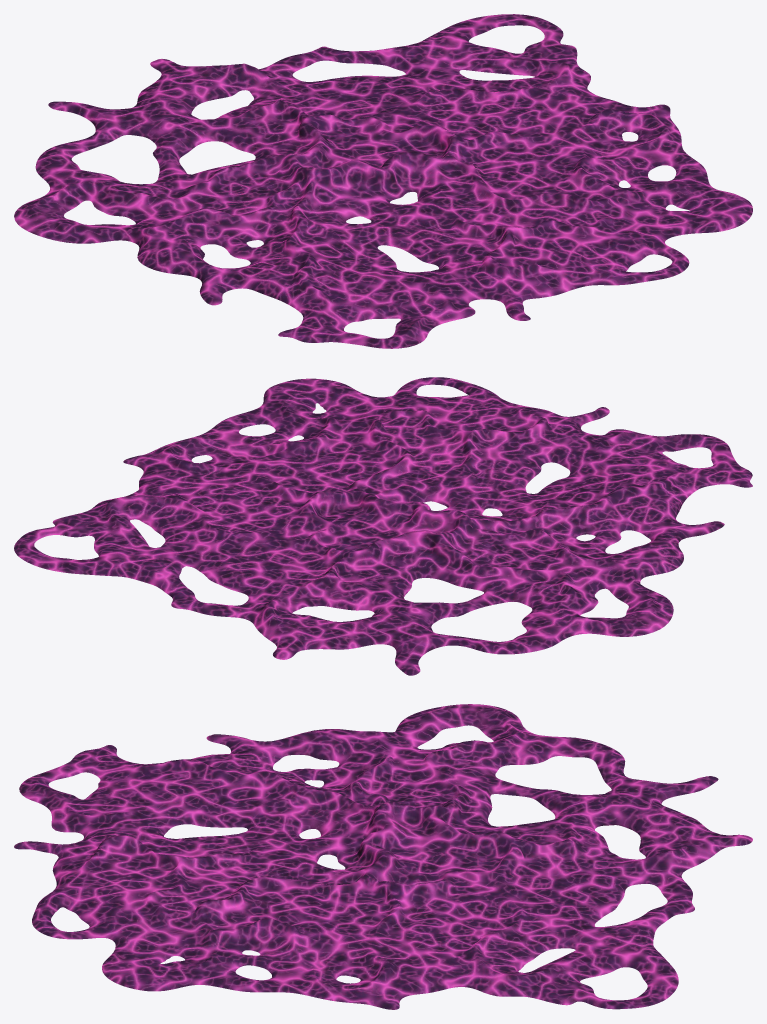
The model's file is caos_stl_chaosgrowth_01a_chaos_v36.glb.
3 renders of one model, top to bottom at view 1: azimuth 30°, elevation 25°; view 2: azimuth 150°, elevation 25°; view 3: azimuth 270°, elevation 25°, orthographic. The views are drawn at different scales.
Parts seen in each view (by area): view 1: caos_stl_chaosgrowth_01a; view 2: caos_stl_chaosgrowth_01a; view 3: caos_stl_chaosgrowth_01a.
Boxes of the visible parts, <box> form: caos_stl_chaosgrowth_01a: <box>14,14,752,348</box>; caos_stl_chaosgrowth_01a: <box>14,377,752,675</box>; caos_stl_chaosgrowth_01a: <box>14,704,752,1009</box>.
Size of the model in its own units: 22.39 by 0.96 by 22.87.
Materials: 1 (1 with a texture image).
